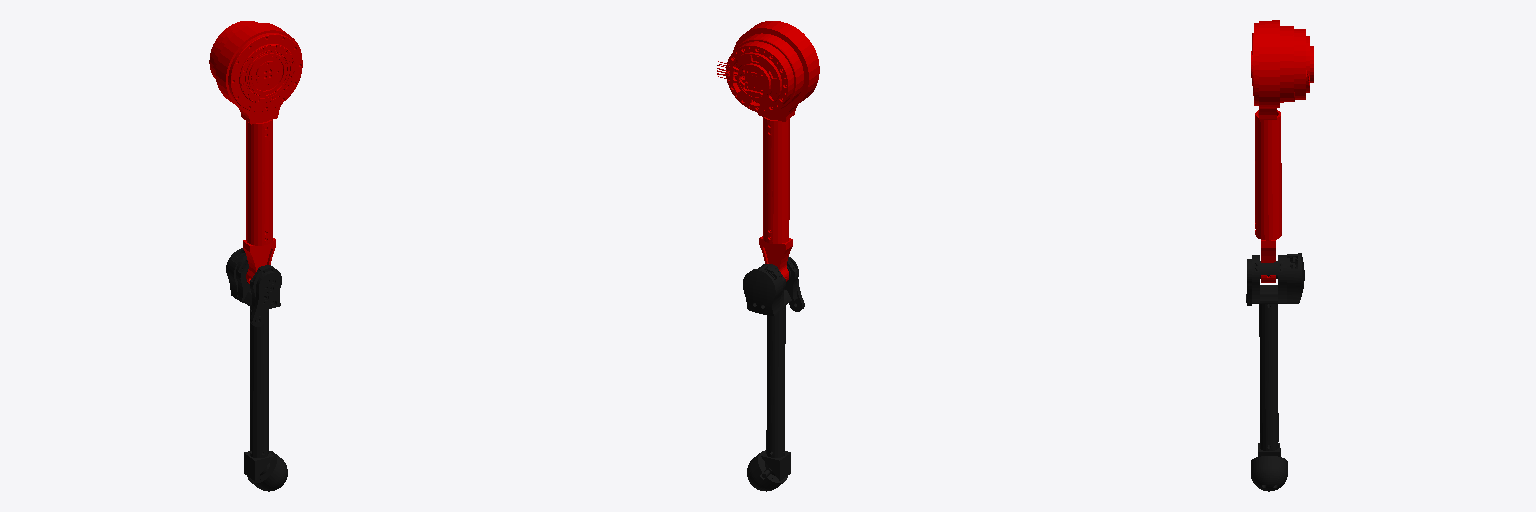
URDF robot description (PONGBOT_Q_V2):
<?xml version="1.0" ?>
<robot name="PONGBOT_Q_V2">

  <link
    name="REAR_BODY">
    <inertial>
      <origin
        xyz="0.1216 0.0026 0.0201"
        rpy="0 0 0" />
      <mass
        value="7.7996" />
      <inertia
        ixx="0.0745"
        ixy="0.0038"
        ixz="-0.0097"
        iyy="0.1354"
        iyz="-0.0014"
        izz="0.1812" />
    </inertial>
    <visual>
      <origin
        xyz="0 0 0"
        rpy="0 0 0" />
      <geometry>
        <mesh
          filename="package://pongbot_rviz/meshes/REAR_BODY.STL" />
      </geometry>
      <material
        name="">
        <color
          rgba="0.38 0.38 0.38 1" />
      </material>
    </visual>
    <collision>
      <origin
        xyz="0 0 0"
        rpy="0 0 0" />
      <geometry>
        <mesh
          filename="package://pongbot_rviz/meshes/REAR_BODY.STL" />
      </geometry>
    </collision>
  </link>
  <link
    name="RR_HIP">
    <inertial>
      <origin
        xyz="-0.0009 -0.0001 -0.0002"
        rpy="0 0 0" />
      <mass
        value="1.1163" />
      <inertia
        ixx="0.0011"
        ixy="0"
        ixz="0"
        iyy="0.0012"
        iyz="0"
        izz="0.0012" />
    </inertial>
    <visual>
      <origin
        xyz="0 0 0"
        rpy="0 0 0" />
      <geometry>
        <mesh
          filename="package://pongbot_rviz/meshes/RR_HIP.STL" />
      </geometry>
      <material
        name="">
        <color
          rgba="0.835 0 0 1" />
      </material>
    </visual>
    <collision>
      <origin
        xyz="0 0 0"
        rpy="0 0 0" />
      <geometry>
        <mesh
          filename="package://pongbot_rviz/meshes/RR_HIP.STL" />
      </geometry>
    </collision>
  </link>
  <joint
    name="RR_HIP_JOINT"
    type="continuous">
    <origin
      xyz="0 -0.11502 -0.00031465"
      rpy="9.8608E-32 -1.0675E-30 0" />
    <parent
      link="REAR_BODY" />
    <child
      link="RR_HIP" />
    <axis
      xyz="1 0 0" />
  </joint>
  <link
    name="RR_THIGH">
    <inertial>
      <origin
        xyz="0 0.0163 -0.0263"
        rpy="0 0 0" />
      <mass
        value="1.8748" />
      <inertia
        ixx="0.0112"
        ixy="0"
        ixz="0"
        iyy="0.0117"
        iyz="0.0008"
        izz="0.0017" />
    </inertial>
    <visual>
      <origin
        xyz="0 0 0"
        rpy="0 0 0" />
      <geometry>
        <mesh
          filename="package://pongbot_rviz/meshes/RR_THIGH.STL" />
      </geometry>
      <material
        name="">
        <color
          rgba="0.835 0 0 1" />
      </material>
    </visual>
    <collision>
      <origin
        xyz="0 0 0"
        rpy="0 0 0" />
      <geometry>
        <mesh
          filename="package://pongbot_rviz/meshes/RR_THIGH.STL" />
      </geometry>
    </collision>
  </link>
  <joint
    name="RR_THIGH_JOINT"
    type="continuous">
    <origin
      xyz="0 -0.105 -0.00028723"
      rpy="9.8608E-32 -1.0675E-30 0" />
    <parent
      link="RR_HIP" />
    <child
      link="RR_THIGH" />
    <axis
      xyz="0 1 0" />
  </joint>
  <link
    name="RR_CALF">
    <inertial>
      <origin
        xyz="0.0012 -0.0017 -0.0897"
        rpy="0 0 0" />
      <mass
        value="0.402" />
      <inertia
        ixx="0.0052"
        ixy="0"
        ixz="-0.0002"
        iyy="0.0051"
        iyz="-0.0001"
        izz="0.0002" />
    </inertial>
    <visual>
      <origin
        xyz="0 0 0"
        rpy="0 0 0" />
      <geometry>
        <mesh
          filename="package://pongbot_rviz/meshes/RR_CALF.STL" />
      </geometry>
      <material
        name="">
        <color
          rgba="0.129 0.129 0.129 1" />
      </material>
    </visual>
    <collision>
      <origin
        xyz="0 0 0"
        rpy="0 0 0" />
      <geometry>
        <mesh
          filename="package://pongbot_rviz/meshes/RR_CALF.STL" />
      </geometry>
    </collision>
  </link>
  <joint
    name="RR_CALF_JOINT"
    type="continuous">
    <origin
      xyz="0 0.00083432 -0.305"
      rpy="9.8608E-32 -1.0675E-30 0" />
    <parent
      link="RR_THIGH" />
    <child
      link="RR_CALF" />
    <axis
      xyz="0 1 0" />
  </joint>
<link
    name="RR_TIP">
    <inertial>
      <origin
        xyz="0 0 0"
        rpy="0 0 0" />
      <mass
        value="0.01" />
      <inertia
        ixx="0"
        ixy="0"
        ixz="0"
        iyy="0"
        iyz="0"
        izz="0" />
    </inertial>
    <visual>
      <origin
        xyz="0 0 0"
        rpy="0 0 0" />
      <geometry>
        <mesh
          filename="package://pongbot_rviz/meshes/RR_TIP.STL" />
      </geometry>
      <material
        name="">
        <color
          rgba="0.502 0.502 0.502 1" />
      </material>
    </visual>
    <collision>
      <origin
        xyz="0 0 0"
        rpy="0 0 0" />
      <geometry>
        <mesh
          filename="package://pongbot_rviz/meshes/RR_TIP.STL" />
      </geometry>
    </collision>
  </link>
  <joint
    name="RR_TIP_JOINT"
    type="fixed">
    <origin
      xyz="0.015 0.001 -0.288"
      rpy="0 5.497 0" />
    <parent
      link="RR_CALF" />
    <child
      link="RR_TIP" />
    <axis
      xyz="0 1 0" />
  </joint>
  <link
    name="RL_HIP">
    <inertial>
      <origin
        xyz="-0.0009 0.0001 0.0002"
        rpy="0 0 0" />
      <mass
        value="1.1163" />
      <inertia
        ixx="0.0011"
        ixy="0"
        ixz="0"
        iyy="0.0012"
        iyz="0"
        izz="0.0012" />
    </inertial>
    <visual>
      <origin
        xyz="0 0 0"
        rpy="0 0 0" />
      <geometry>
        <mesh
          filename="package://pongbot_rviz/meshes/RL_HIP.STL" />
      </geometry>
      <material
        name="">
        <color
          rgba="0.502 0.502 0.502 1" />
      </material>
    </visual>
    <collision>
      <origin
        xyz="0 0 0"
        rpy="0 0 0" />
      <geometry>
        <mesh
          filename="package://pongbot_rviz/meshes/RL_HIP.STL" />
      </geometry>
    </collision>
  </link>
  <joint
    name="RL_HIP_JOINT"
    type="continuous">
    <origin
      xyz="0 0.11502 -0.00031465"
      rpy="9.8608E-32 -1.0675E-30 0" />
    <parent
      link="REAR_BODY" />
    <child
      link="RL_HIP" />
    <axis
      xyz="1 0 0" />
  </joint>
  <link
    name="RL_THIGH">
    <inertial>
      <origin
        xyz="0 -0.0161 -0.0264"
        rpy="0 0 0" />
      <mass
        value="1.8748" />
      <inertia
        ixx="0.0112"
        ixy="0"
        ixz="0"
        iyy="0.0117"
        iyz="-0.0008"
        izz="0.0017" />
    </inertial>
    <visual>
      <origin
        xyz="0 0 0"
        rpy="0 0 0" />
      <geometry>
        <mesh
          filename="package://pongbot_rviz/meshes/RL_THIGH.STL" />
      </geometry>
      <material
        name="">
        <color
          rgba="0.835 0 0 1" />
      </material>
    </visual>
    <collision>
      <origin
        xyz="0 0 0"
        rpy="0 0 0" />
      <geometry>
        <mesh
          filename="package://pongbot_rviz/meshes/RL_THIGH.STL" />
      </geometry>
    </collision>
  </link>
  <joint
    name="RL_THIGH_JOINT"
    type="continuous">
    <origin
      xyz="0 0.105 0.00028723"
      rpy="9.8608E-32 -1.0675E-30 0" />
    <parent
      link="RL_HIP" />
    <child
      link="RL_THIGH" />
    <axis
      xyz="0 1 0" />
  </joint>
  <link
    name="RL_CALF">
    <inertial>
      <origin
        xyz="0.0008 0.0021 -0.0897"
        rpy="0 0 0" />
      <mass
        value="0.402" />
      <inertia
        ixx="0.0052"
        ixy="0"
        ixz="-0.0002"
        iyy="0.0051"
        iyz="0"
        izz="0.0002" />
    </inertial>
    <visual>
      <origin
        xyz="0 0 0"
        rpy="0 0 0" />
      <geometry>
        <mesh
          filename="package://pongbot_rviz/meshes/RL_CALF.STL" />
      </geometry>
      <material
        name="">
        <color
          rgba="0.129 0.129 0.129 1" />
      </material>
    </visual>
    <collision>
      <origin
        xyz="0 0 0"
        rpy="0 0 0" />
      <geometry>
        <mesh
          filename="package://pongbot_rviz/meshes/RL_CALF.STL" />
      </geometry>
    </collision>
  </link>
  <joint
    name="RL_CALF_JOINT"
    type="continuous">
    <origin
      xyz="0 0.00083432 -0.305"
      rpy="9.8608E-32 -1.0675E-30 0" />
    <parent
      link="RL_THIGH" />
    <child
      link="RL_CALF" />
    <axis
      xyz="0 1 0" />
  </joint>
  <link
      name="RL_TIP">
      <inertial>
        <origin
          xyz="0 0 0"
          rpy="0 0 0" />
        <mass
          value="0.01" />
        <inertia
          ixx="0"
          ixy="0"
          ixz="0"
          iyy="0"
          iyz="0"
          izz="0" />
      </inertial>
      <visual>
        <origin
          xyz="0 0 0"
          rpy="0 0 0" />
        <geometry>
          <mesh
            filename="package://pongbot_rviz/meshes/RL_TIP.STL" />
        </geometry>
        <material
          name="">
          <color
            rgba="0.502 0.502 0.502 1" />
        </material>
      </visual>
      <collision>
        <origin
          xyz="0 0 0"
          rpy="0 0 0" />
        <geometry>
          <mesh
            filename="package://pongbot_rviz/meshes/RL_TIP.STL" />
        </geometry>
      </collision>
    </link>
    <joint
      name="RL_TIP_JOINT"
      type="fixed">
      <origin
        xyz="0.015 0.001 -0.288"
        rpy="0 5.497 0" />
      <parent
        link="RL_CALF" />
      <child
        link="RL_TIP" />
      <axis
        xyz="0 1 0" />
    </joint>
  <link
    name="FRONT_BODY">
    <inertial>
      <origin
        xyz="0.2266 -0.0002 0.0015"
        rpy="0 0 0" />
      <mass
        value="8.9472" />
      <inertia
        ixx="0.0895"
        ixy="0.0002"
        ixz="-0.0077"
        iyy="0.1228"
        iyz="0"
        izz="0.1674" />
    </inertial>
    <visual>
      <origin
        xyz="0 0 0"
        rpy="0 0 0" />
      <geometry>
        <mesh
          filename="package://pongbot_rviz/meshes/FRONT_BODY.STL" />
      </geometry>
      <material
        name="">
        <color
          rgba="0.196 0.196 0.196 1" />
      </material>
    </visual>
    <collision>
      <origin
        xyz="0 0 0"
        rpy="0 0 0" />
      <geometry>
        <mesh
          filename="package://pongbot_rviz/meshes/FRONT_BODY.STL" />
      </geometry>
    </collision>
  </link>
  <joint
    name="WAIST_JOINT"
    type="continuous">
    <origin
      xyz="0.35 0 0.035238"
      rpy="9.8608E-32 -1.0675E-30 3.9443E-31" />
    <parent
      link="REAR_BODY" />
    <child
      link="FRONT_BODY" />
    <axis
      xyz="0 0 1" />
  </joint>
  <link
    name="FR_HIP">
    <inertial>
      <origin
        xyz="0.0009 -0.0001 0.0002"
        rpy="0 0 0" />
      <mass
        value="1.1163" />
      <inertia
        ixx="0.0011"
        ixy="0"
        ixz="0"
        iyy="0.0012"
        iyz="0"
        izz="0.0012" />
    </inertial>
    <visual>
      <origin
        xyz="0 0 0"
        rpy="0 0 0" />
      <geometry>
        <mesh
          filename="package://pongbot_rviz/meshes/FR_HIP.STL" />
      </geometry>
      <material
        name="">
        <color
          rgba="0.835 0 0 1" />
      </material>
    </visual>
    <collision>
      <origin
        xyz="0 0 0"
        rpy="0 0 0" />
      <geometry>
        <mesh
          filename="package://pongbot_rviz/meshes/FR_HIP.STL" />
      </geometry>
    </collision>
  </link>
  <joint
    name="FR_HIP_JOINT"
    type="continuous">
    <origin
      xyz="0.35 -0.11502 -0.03555"
      rpy="9.8608E-32 -1.0675E-30 -3.9443E-31" />
    <parent
      link="FRONT_BODY" />
    <child
      link="FR_HIP" />
    <axis
      xyz="1 0 0" />
  </joint>
  <link
    name="FR_THIGH">
    <inertial>
      <origin
        xyz="0 0.0162 -0.0264"
        rpy="0 0 0" />
      <mass
        value="1.8748" />
      <inertia
        ixx="0.0112"
        ixy="0"
        ixz="0"
        iyy="0.0117"
        iyz="0.0008"
        izz="0.0017" />
    </inertial>
    <visual>
      <origin
        xyz="0 0 0"
        rpy="0 0 0" />
      <geometry>
        <mesh
          filename="package://pongbot_rviz/meshes/FR_THIGH.STL" />
      </geometry>
      <material
        name="">
        <color
          rgba="0.835 0 0 1" />
      </material>
    </visual>
    <collision>
      <origin
        xyz="0 0 0"
        rpy="0 0 0" />
      <geometry>
        <mesh
          filename="package://pongbot_rviz/meshes/FR_THIGH.STL" />
      </geometry>
    </collision>
  </link>
  <joint
    name="FR_THIGH_JOINT"
    type="continuous">
    <origin
      xyz="0 -0.105 0"
      rpy="9.8608E-32 -1.0675E-30 0" />
    <parent
      link="FR_HIP" />
    <child
      link="FR_THIGH" />
    <axis
      xyz="0 1 0" />
  </joint>
  <link
    name="FR_CALF">
    <inertial>
      <origin
        xyz="-0.0008 -0.0019 -0.0897"
        rpy="0 0 0" />
      <mass
        value="0.402" />
      <inertia
        ixx="0.0052"
        ixy="0"
        ixz="0.0002"
        iyy="0.0051"
        iyz="0"
        izz="0.0002" />
    </inertial>
    <visual>
      <origin
        xyz="0 0 0"
        rpy="0 0 0" />
      <geometry>
        <mesh
          filename="package://pongbot_rviz/meshes/FR_CALF.STL" />
      </geometry>
      <material
        name="">
        <color
          rgba="0.129 0.129 0.129 1" />
      </material>
    </visual>
    <collision>
      <origin
        xyz="0 0 0"
        rpy="0 0 0" />
      <geometry>
        <mesh
          filename="package://pongbot_rviz/meshes/FR_CALF.STL" />
      </geometry>
    </collision>
  </link>
  <joint
    name="FR_CALF_JOINT"
    type="continuous">
    <origin
      xyz="0 0 -0.305"
      rpy="9.8608E-32 -1.0675E-30 0" />
    <parent
      link="FR_THIGH" />
    <child
      link="FR_CALF" />
    <axis
      xyz="0 1 0" />
  </joint>
  <link
      name="FR_TIP">
      <inertial>
        <origin
          xyz="0 0 0"
          rpy="0 0 0" />
        <mass
          value="0.01" />
        <inertia
          ixx="0"
          ixy="0"
          ixz="0"
          iyy="0"
          iyz="0"
          izz="0" />
      </inertial>
      <visual>
        <origin
          xyz="0 0 0"
          rpy="0 0 0" />
        <geometry>
          <mesh
            filename="package://pongbot_rviz/meshes/FR_TIP.STL" />
        </geometry>
        <material
          name="">
          <color
            rgba="0.502 0.502 0.502 1" />
        </material>
      </visual>
      <collision>
        <origin
          xyz="0 0 0"
          rpy="0 0 0" />
        <geometry>
          <mesh
            filename="package://pongbot_rviz/meshes/FR_TIP.STL" />
        </geometry>
      </collision>
    </link>
    <joint
      name="FR_TIP_JOINT"
      type="fixed">
      <origin
        xyz="-0.015 -0.0004 -0.288"
        rpy="0 0.7854 0" />
      <parent
        link="FR_CALF" />
      <child
        link="FR_TIP" />
      <axis
        xyz="0 1 0" />
    </joint>
  <link
    name="FL_HIP">
    <inertial>
      <origin
        xyz="0.0009 0.0001 -0.0002"
        rpy="0 0 0" />
      <mass
        value="1.1163" />
      <inertia
        ixx="0.0011"
        ixy="0"
        ixz="0"
        iyy="0.0012"
        iyz="0"
        izz="0.0012" />
    </inertial>
    <visual>
      <origin
        xyz="0 0 0"
        rpy="0 0 0" />
      <geometry>
        <mesh
          filename="package://pongbot_rviz/meshes/FL_HIP.STL" />
      </geometry>
      <material
        name="">
        <color
          rgba="0.835 0 0 1" />
      </material>
    </visual>
    <collision>
      <origin
        xyz="0 0 0"
        rpy="0 0 0" />
      <geometry>
        <mesh
          filename="package://pongbot_rviz/meshes/FL_HIP.STL" />
      </geometry>
    </collision>
  </link>
  <joint
    name="FL_HIP_JOINT"
    type="continuous">
    <origin
      xyz="0.35 0.11502 -0.03555"
      rpy="0 -1.0675E-30 -3.9443E-31" />
    <parent
      link="FRONT_BODY" />
    <child
      link="FL_HIP" />
    <axis
      xyz="1 0 0" />
  </joint>
  <link
    name="FL_THIGH">
    <inertial>
      <origin
        xyz="0 -0.0162 -0.0264"
        rpy="0 0 0" />
      <mass
        value="1.8748" />
      <inertia
        ixx="0.0112"
        ixy="0"
        ixz="0"
        iyy="0.0117"
        iyz="-0.0008"
        izz="0.0017" />
    </inertial>
    <visual>
      <origin
        xyz="0 0 0"
        rpy="0 0 0" />
      <geometry>
        <mesh
          filename="package://pongbot_rviz/meshes/FL_THIGH.STL" />
      </geometry>
      <material
        name="">
        <color
          rgba="0.835 0 0 1" />
      </material>
    </visual>
    <collision>
      <origin
        xyz="0 0 0"
        rpy="0 0 0" />
      <geometry>
        <mesh
          filename="package://pongbot_rviz/meshes/FL_THIGH.STL" />
      </geometry>
    </collision>
  </link>
  <joint
    name="FL_THIGH_JOINT"
    type="continuous">
    <origin
      xyz="0 0.105 0"
      rpy="9.8608E-32 -1.0675E-30 0" />
    <parent
      link="FL_HIP" />
    <child
      link="FL_THIGH" />
    <axis
      xyz="0 1 0" />
  </joint>
  <link
    name="FL_CALF">
    <inertial>
      <origin
        xyz="-0.0012 0.0019 -0.0897"
        rpy="0 0 0" />
      <mass
        value="0.402" />
      <inertia
        ixx="0.0052"
        ixy="0"
        ixz="0.0002"
        iyy="0.0051"
        iyz="0"
        izz="0.0002" />
    </inertial>
    <visual>
      <origin
        xyz="0 0 0"
        rpy="0 0 0" />
      <geometry>
        <mesh
          filename="package://pongbot_rviz/meshes/FL_CALF.STL" />
      </geometry>
      <material
        name="">
        <color
          rgba="0.129 0.129 0.129 1.0" />
      </material>
    </visual>
    <collision>
      <origin
        xyz="0 0 0"
        rpy="0 0 0" />
      <geometry>
        <mesh
          filename="package://pongbot_rviz/meshes/FL_CALF.STL" />
      </geometry>
    </collision>
  </link>
  <joint
    name="FL_CALF_JOINT"
    type="continuous">
    <origin
      xyz="0 0 -0.305"
      rpy="9.8608E-32 -1.0675E-30 0" />
    <parent
      link="FL_THIGH" />
    <child
      link="FL_CALF" />
    <axis
      xyz="0 1 0" />
  </joint>
  <link
      name="FL_TIP">
      <inertial>
        <origin
          xyz="0 0 0"
          rpy="0 0 0" />
        <mass
          value="0.01" />
        <inertia
          ixx="0"
          ixy="0"
          ixz="0"
          iyy="0"
          iyz="0"
          izz="0" />
      </inertial>
      <visual>
        <origin
          xyz="0 0 0"
          rpy="0 0 0" />
        <geometry>
          <mesh
            filename="package://pongbot_rviz/meshes/FL_TIP.STL" />
        </geometry>
        <material
          name="">
          <color
            rgba="0.502 0.502 0.502 1" />
        </material>
      </visual>
      <collision>
        <origin
          xyz="0 0 0"
          rpy="0 0 0" />
        <geometry>
          <mesh
            filename="package://pongbot_rviz/meshes/FL_TIP.STL" />
        </geometry>
      </collision>
    </link>
    <joint
      name="FL_TIP_JOINT"
      type="fixed">
      <origin
        xyz="-0.015 -0.0004 -0.288"
        rpy="0 0.7854 0" />
      <parent
        link="FL_CALF" />
      <child
        link="FL_TIP" />
      <axis
        xyz="0 1 0" />
    </joint>
</robot>

--- Render facts (derived) ---
The picture shows the robot from 3 angles, left to right: view 1: azimuth 30°, elevation 25°; view 2: azimuth 150°, elevation 25°; view 3: azimuth 270°, elevation 25°; orthographic projection.
Robot: PONGBOT_Q_V2 — 18 links, 17 joints (13 continuous, 4 fixed); root link REAR_BODY; default pose: all joints at 0.
Links seen in each view (by area): view 1: RR_THIGH, RR_CALF; view 2: RR_THIGH, RR_CALF; view 3: RR_THIGH, RR_CALF.
Link boxes in pixels (x1,y1,x2,y2): RR_THIGH: (209, 21, 302, 283); RR_CALF: (226, 248, 287, 491); RR_THIGH: (717, 21, 819, 281); RR_CALF: (743, 257, 804, 491); RR_THIGH: (1251, 20, 1313, 282); RR_CALF: (1246, 253, 1304, 491).
Size in the robot's own frame: 0.1197 by 0.0899 by 0.6767 metres.
2 mesh visuals loaded from 18 distinct referenced files (2 binary STL); not drawn: 16 (reference not matched to a file when rendering).